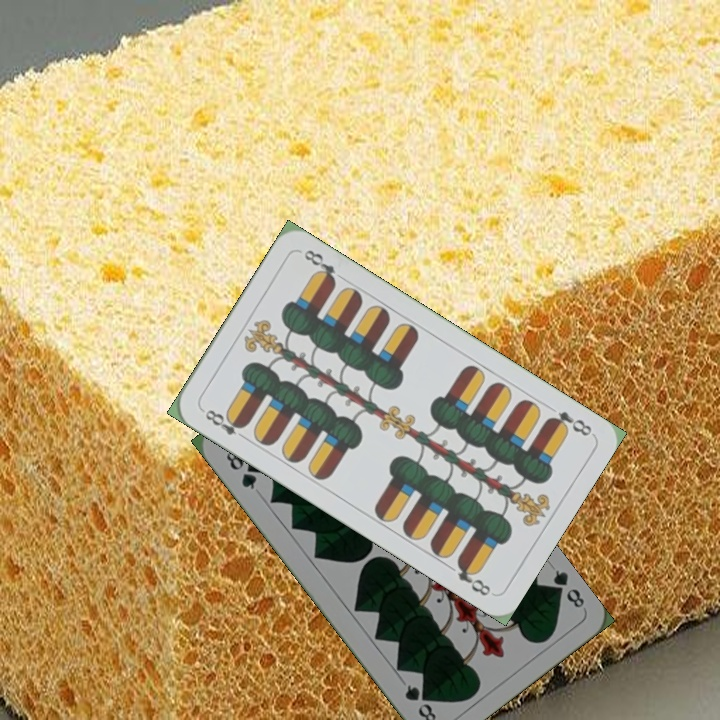E8: (198, 404, 250, 443), (543, 407, 595, 439)
G8: (544, 565, 587, 611), (221, 446, 260, 493)
